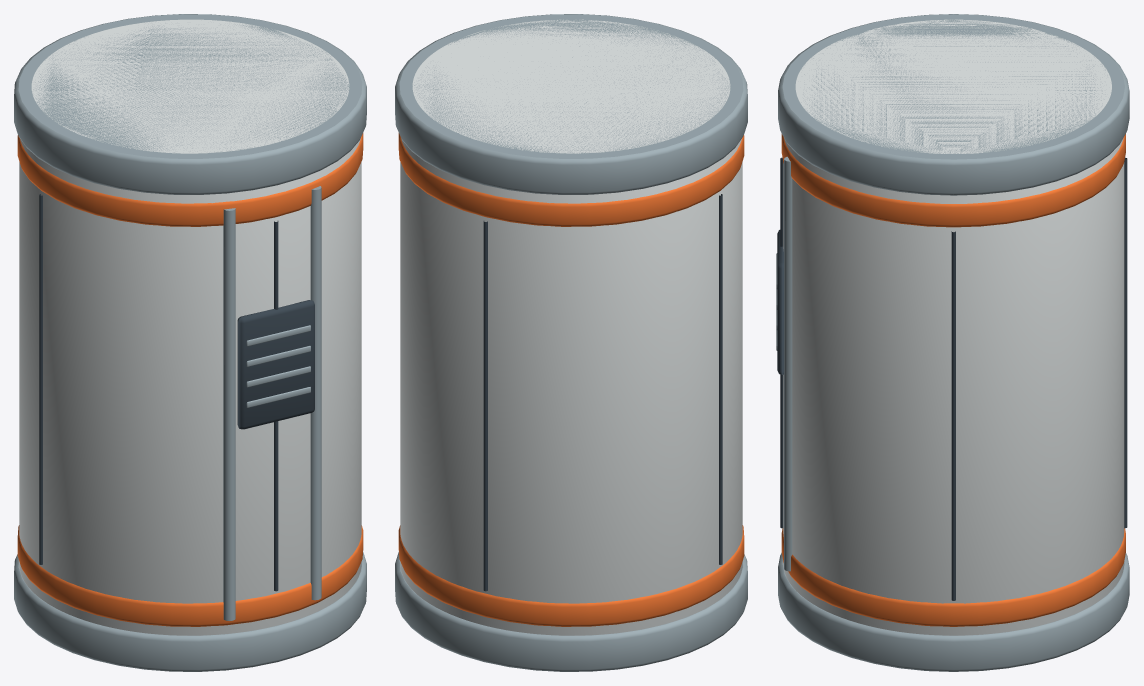
File: tankSmall.glb
3 renders of one model, left to right at view 1: azimuth 30°, elevation 25°; view 2: azimuth 150°, elevation 25°; view 3: azimuth 270°, elevation 25°, orthographic.
Parts seen in each view (by area): view 1: Insulated pressure vessel; view 2: Insulated pressure vessel; view 3: Insulated pressure vessel.
Boxes of the visible parts, box(x1,y1,x2,y2) form: Insulated pressure vessel: box(14, 14, 366, 671); Insulated pressure vessel: box(395, 14, 747, 671); Insulated pressure vessel: box(776, 14, 1129, 671).
Bounding box in the file's own units: 0.625 × 1 × 0.625.
